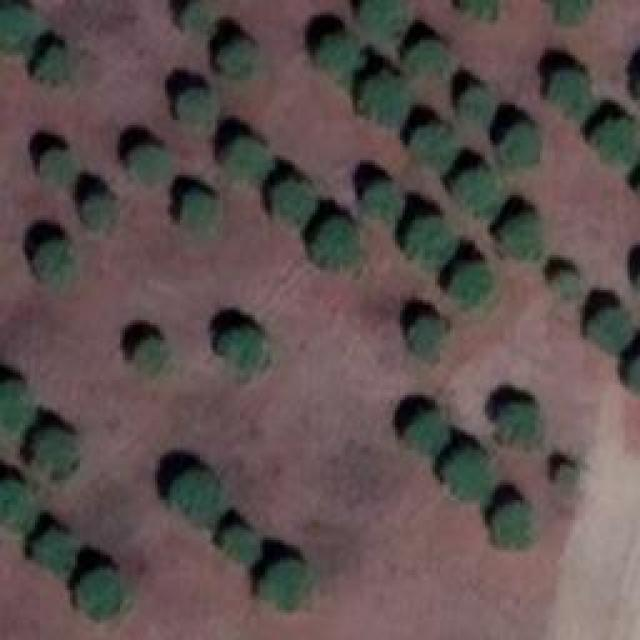Tree: (310, 213, 363, 276), (173, 465, 226, 525), (353, 67, 406, 125), (258, 558, 313, 613), (405, 215, 455, 265), (497, 403, 545, 453), (30, 425, 78, 475), (70, 567, 120, 615), (490, 498, 533, 553), (210, 37, 258, 85), (493, 218, 543, 263), (450, 450, 495, 498), (445, 165, 493, 210), (542, 70, 590, 115), (0, 478, 38, 533), (223, 322, 266, 370), (448, 260, 491, 308), (127, 143, 175, 186), (585, 308, 630, 353), (597, 117, 640, 164), (0, 377, 32, 440), (268, 180, 313, 223), (495, 123, 538, 168), (30, 525, 75, 568), (175, 187, 215, 235), (33, 237, 73, 285), (355, 0, 403, 38), (178, 88, 218, 133), (410, 120, 450, 163), (408, 415, 451, 453), (412, 318, 450, 361), (222, 138, 260, 181), (0, 2, 32, 52), (363, 178, 398, 223), (403, 40, 448, 75), (312, 33, 350, 73), (133, 335, 168, 375), (35, 148, 75, 183), (78, 190, 113, 230), (220, 528, 258, 563), (458, 0, 503, 28), (457, 85, 495, 118), (35, 45, 68, 83), (552, 462, 580, 500), (545, 0, 590, 20), (180, 0, 210, 30), (548, 273, 581, 298)
